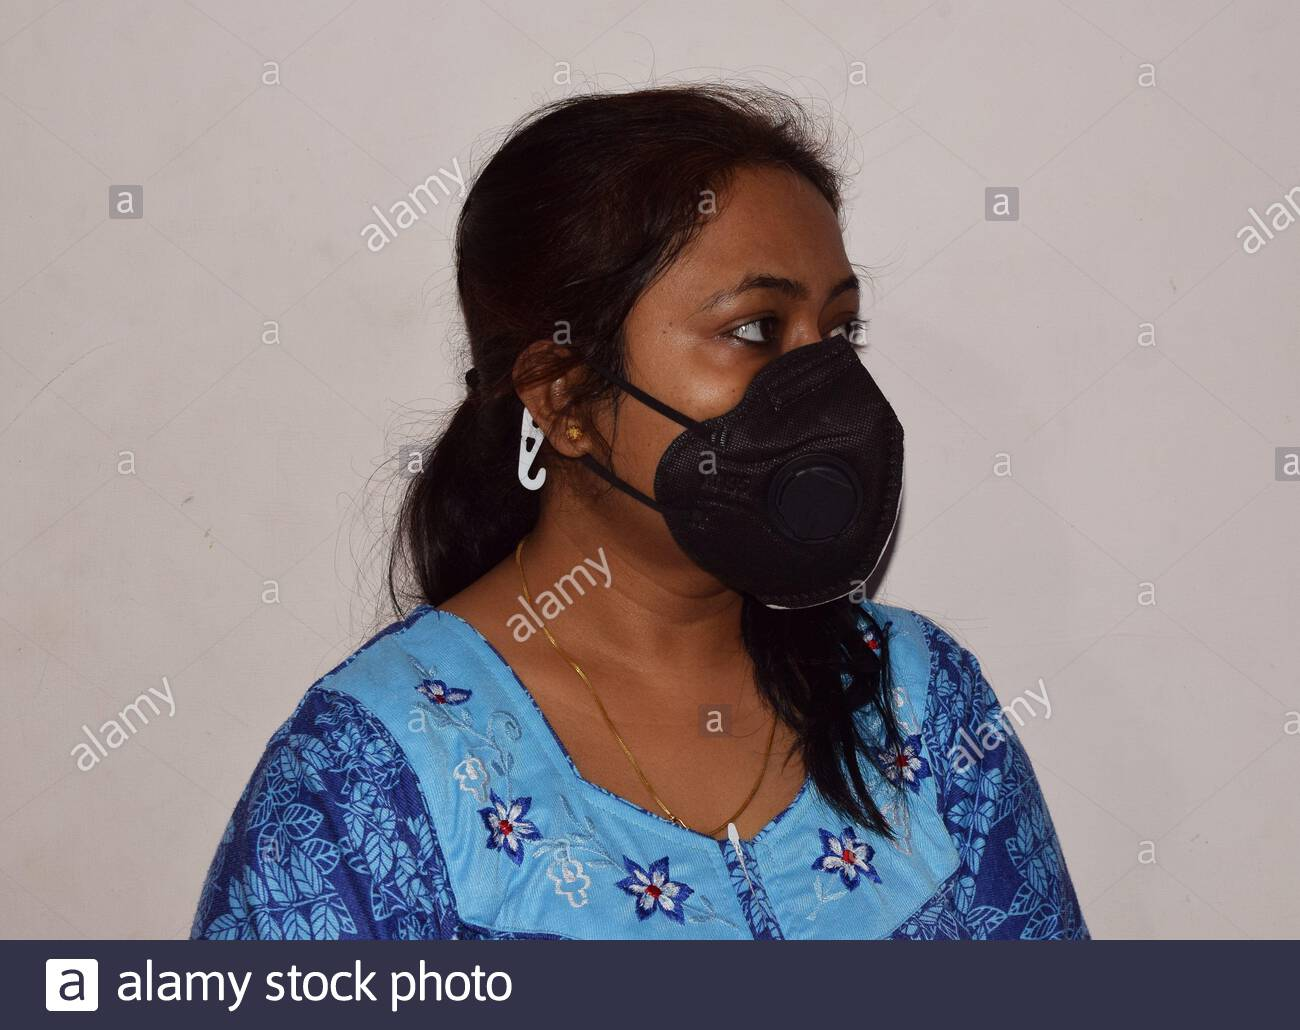mask: (642, 339, 924, 628)
